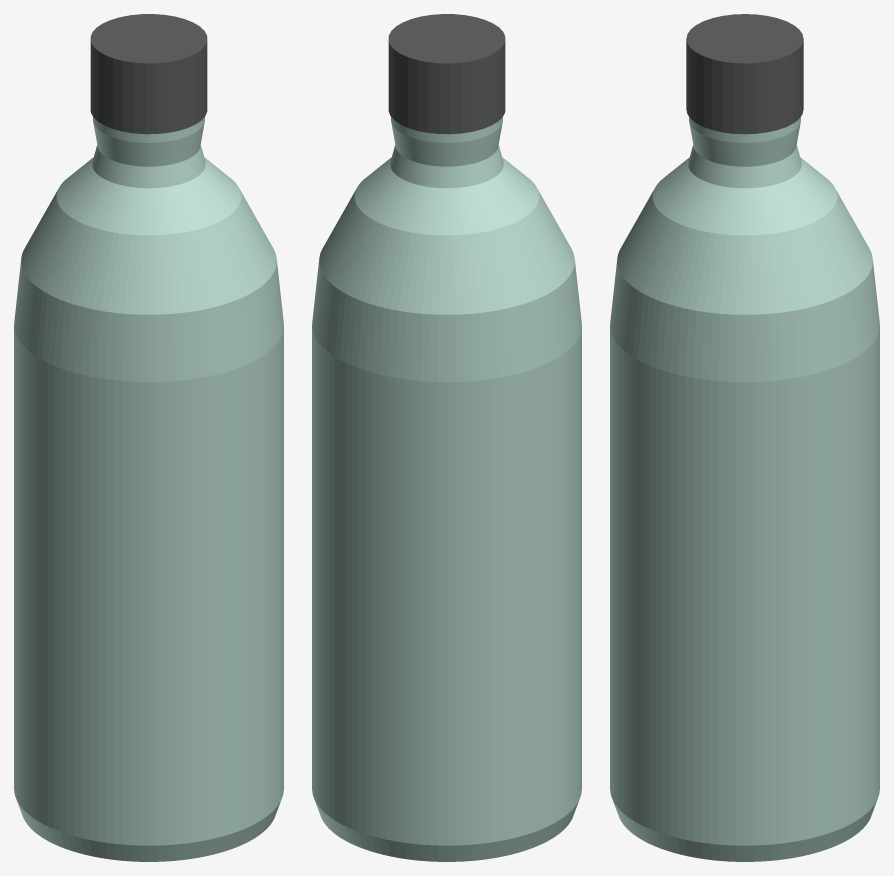
File: bottle_mint.glb
3 renders of one model, left to right at view 1: azimuth 30°, elevation 25°; view 2: azimuth 150°, elevation 25°; view 3: azimuth 270°, elevation 25°, orthographic.
Visible parts, largest first — view 1: GlassBottle, BottleCap; view 2: GlassBottle, BottleCap; view 3: GlassBottle, BottleCap.
Boxes of the visible parts, box(x1,y1,x2,y2) form: GlassBottle: box(14, 117, 283, 861); BottleCap: box(90, 14, 207, 134); GlassBottle: box(312, 117, 581, 861); BottleCap: box(388, 14, 505, 134); GlassBottle: box(610, 117, 879, 861); BottleCap: box(686, 14, 803, 134).
Size of the model in its own units: 0.076 by 0.239 by 0.076.
